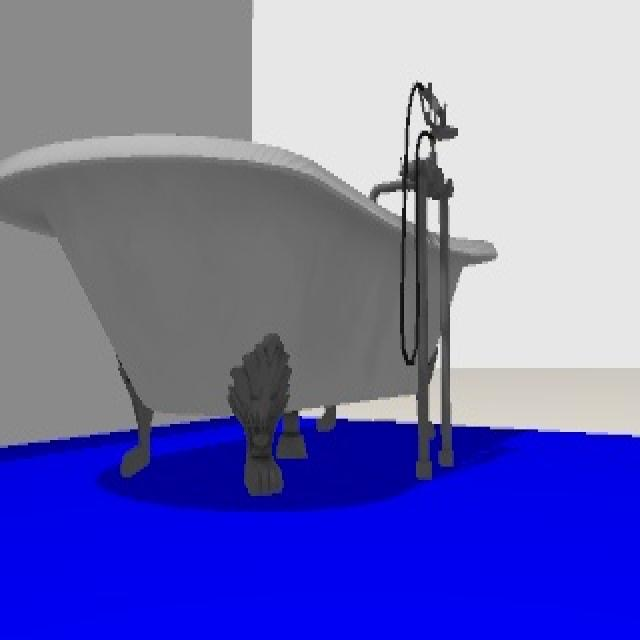bathtub: (8, 84, 500, 494)
